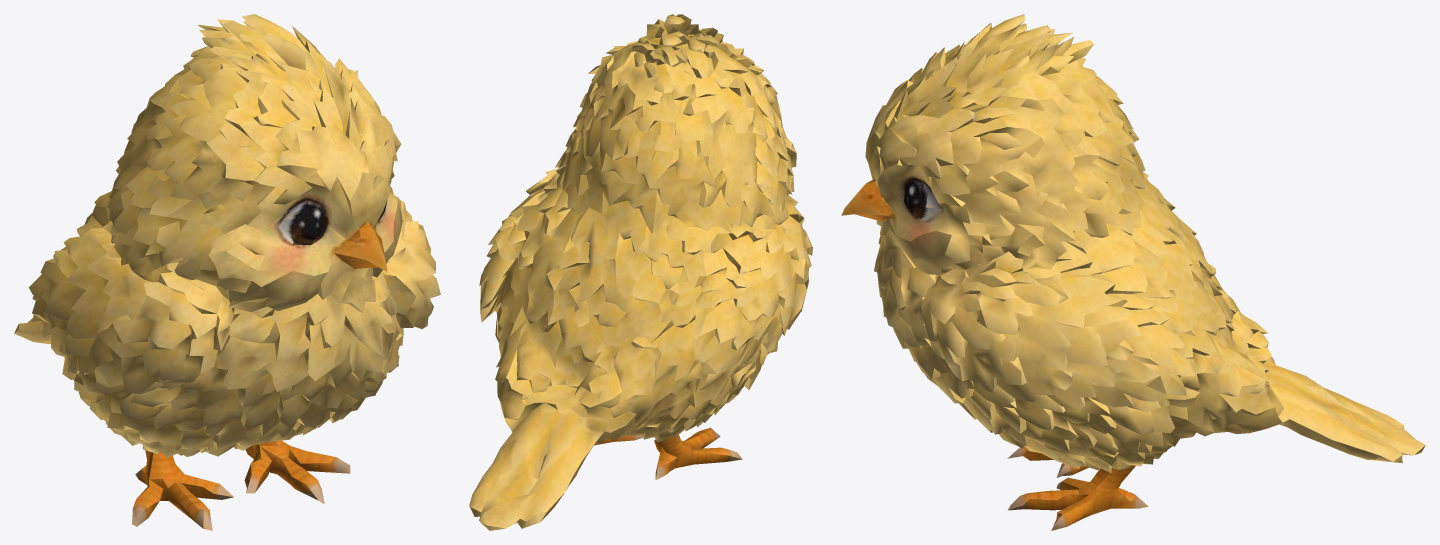
File: chick_lite.glb
3 views of the same model, side by side, from view 1: azimuth 30°, elevation 25°; view 2: azimuth 150°, elevation 25°; view 3: azimuth 270°, elevation 25° (orthographic). The views are drawn at different scales.
Visible parts, largest first — view 1: geometry_0; view 2: geometry_0; view 3: geometry_0.
Boxes of the visible parts, left/top/right/bottom form: geometry_0: left=14, top=14, right=440, bottom=530; geometry_0: left=469, top=14, right=812, bottom=530; geometry_0: left=841, top=14, right=1425, bottom=530.
Bounding box in the file's own units: 1.2 × 1.67 × 1.91.
1 material, 1 textured.
